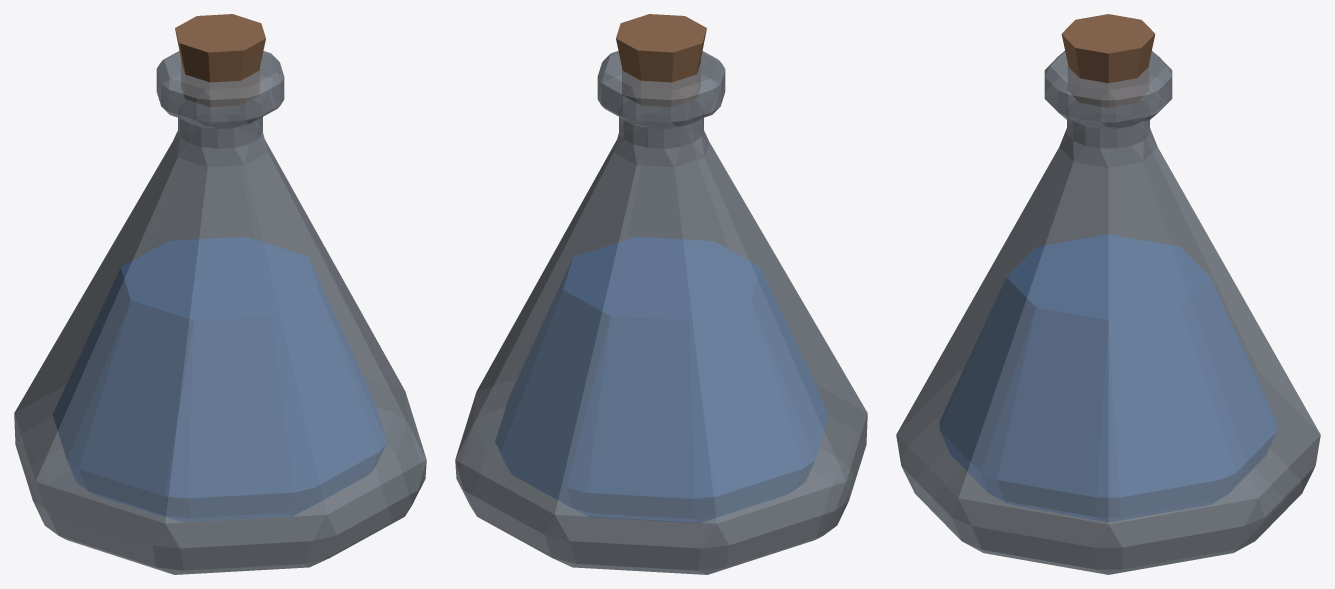
Rendered from potka many.fbx.
3 renders of one model, left to right at view 1: azimuth 30°, elevation 25°; view 2: azimuth 150°, elevation 25°; view 3: azimuth 270°, elevation 25°, orthographic.
Visible parts, largest first — view 1: Okrąg; view 2: Okrąg; view 3: Okrąg.
Boxes of the visible parts, x1,y1,x2,y2 form: Okrąg: (14, 14, 426, 574); Okrąg: (455, 14, 867, 574); Okrąg: (896, 14, 1320, 574).
Size of the model in its own units: 61.22 by 74.19 by 61.22.
